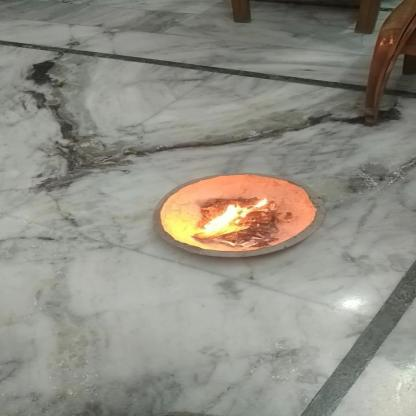fire: (198, 196, 271, 236)
